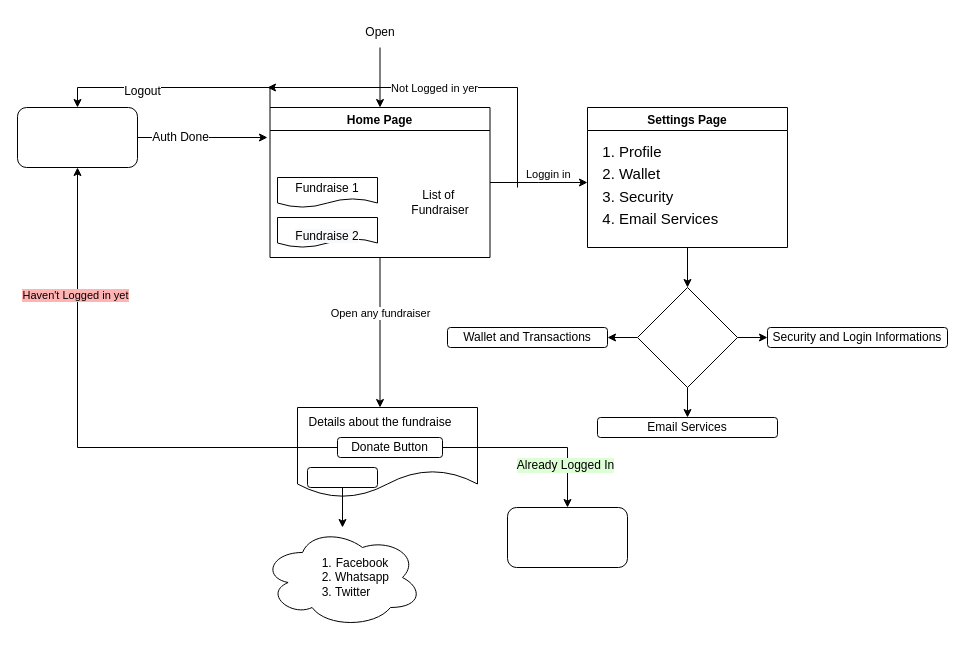
This 965x645 diagram has some shape labels left out. The shapes that lost their labels are listed below. From the top down, each one's centre as x and y in pixels, then its label:
At point 77,137: "Login / Signup".
At point 687,337: "User Profile Management".
At point 342,477: "Share".
At point 567,537: "Donate Module".
